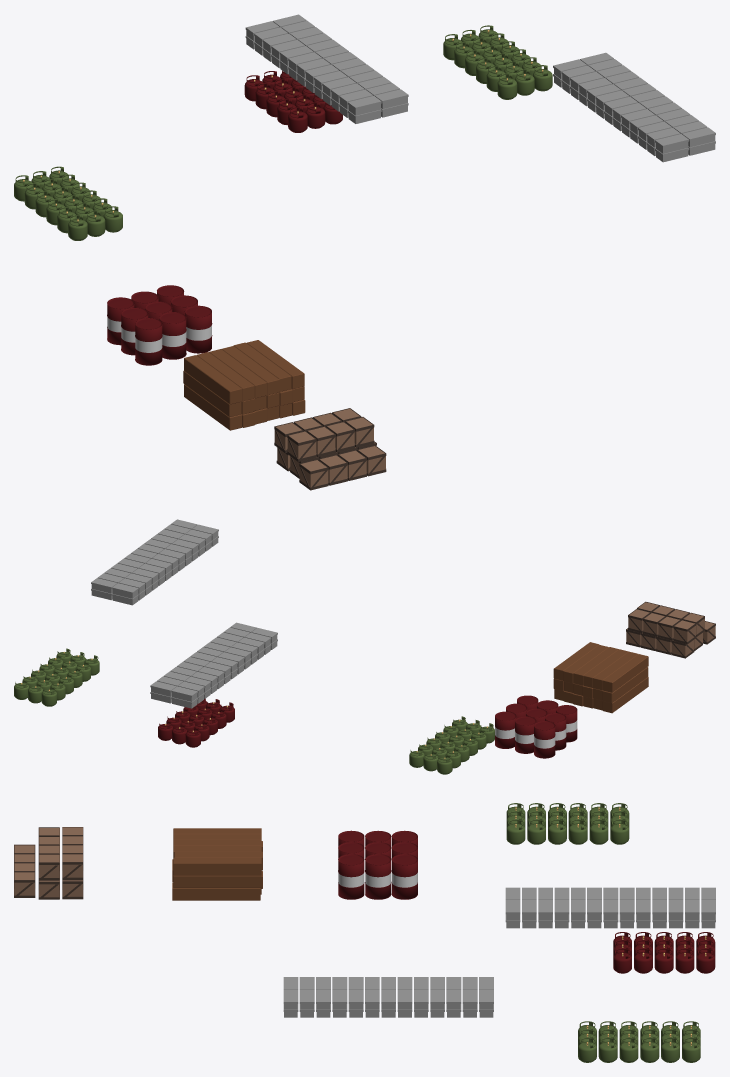
Rendered from gentong and boxes.fbx.
The picture shows the model from 3 angles, top to bottom: view 1: azimuth 30°, elevation 25°; view 2: azimuth 150°, elevation 25°; view 3: azimuth 270°, elevation 25°; orthographic projection. The views are drawn at different scales.
Parts seen in each view (by area): view 1: 15. box besi, 14. gas, 16. kyu 2, 17. box kayu, 13. gentong; view 2: 15. box besi, 14. gas, 16. kyu 2, 13. gentong, 17. box kayu; view 3: 15. box besi, 14. gas, 16. kyu 2, 13. gentong, 17. box kayu.
Part boxes in pixels (x1,y1,x2,y2): 15. box besi: (245,14,715,162); 14. gas: (14,25,552,240); 16. kyu 2: (183,340,305,430); 17. box kayu: (274,408,386,490); 13. gentong: (107,285,212,365); 15. box besi: (91,519,277,708); 14. gas: (14,648,494,774); 16. kyu 2: (553,642,648,713); 13. gentong: (495,695,577,758); 17. box kayu: (626,601,715,658); 15. box besi: (283,887,715,1017); 14. gas: (506,803,715,1062); 16. kyu 2: (172,828,262,900); 13. gentong: (338,830,417,899); 17. box kayu: (14,827,83,899).
Size of the model in its own units: 1172 by 252 by 1361.
